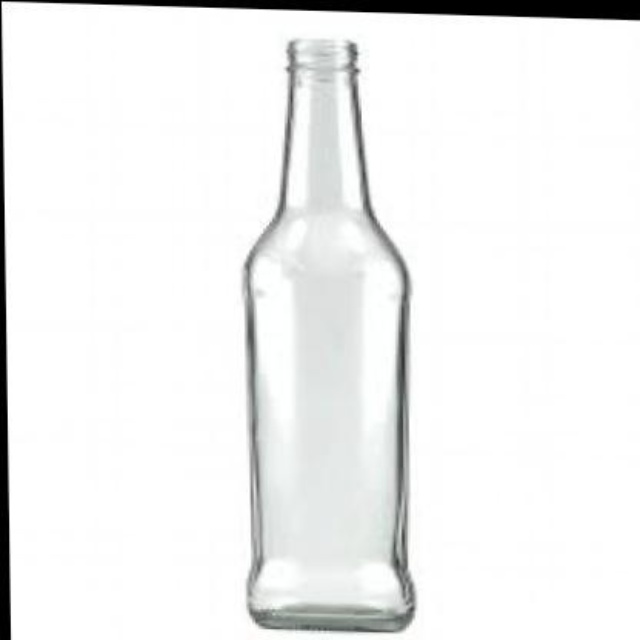trash: (245, 40, 414, 629)
